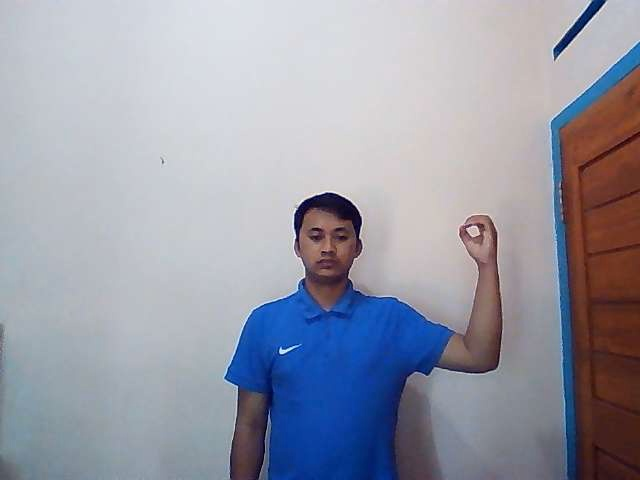O: (458, 214, 502, 266)
